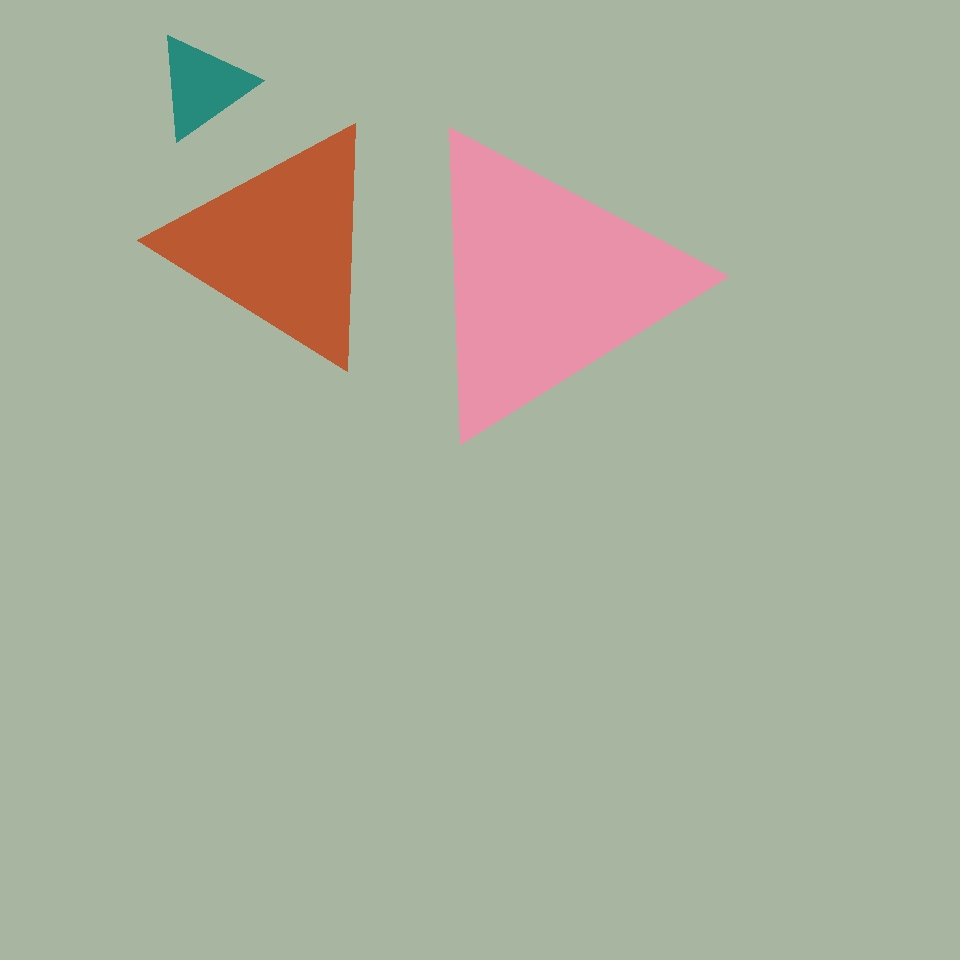circle: (406, 125, 686, 442), (372, 53, 649, 312), (310, 533, 539, 777), (171, 121, 389, 369), (185, 439, 402, 629), (154, 32, 252, 140)
square: (341, 206, 715, 581), (546, 498, 855, 807)
